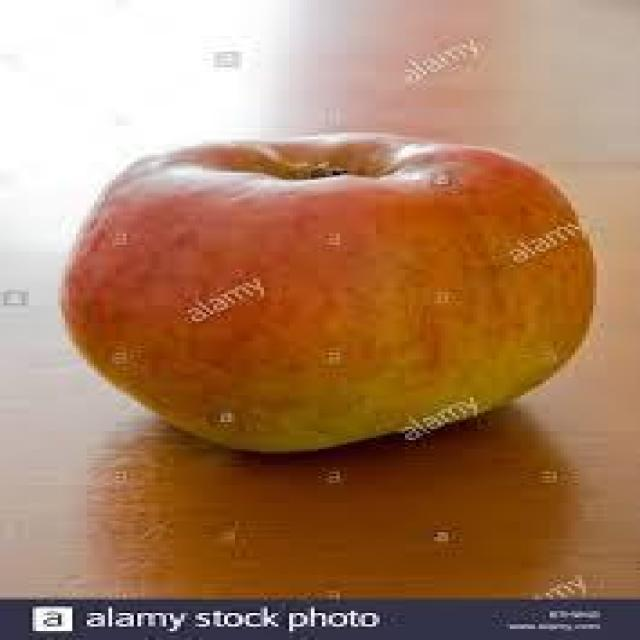maca: (58, 130, 596, 454)
